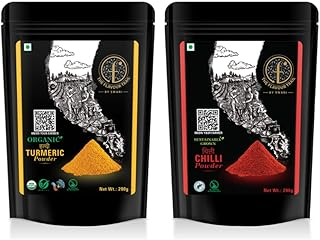Chilli Powder: (167, 6, 313, 222)
Turmeric: (2, 4, 150, 223)
